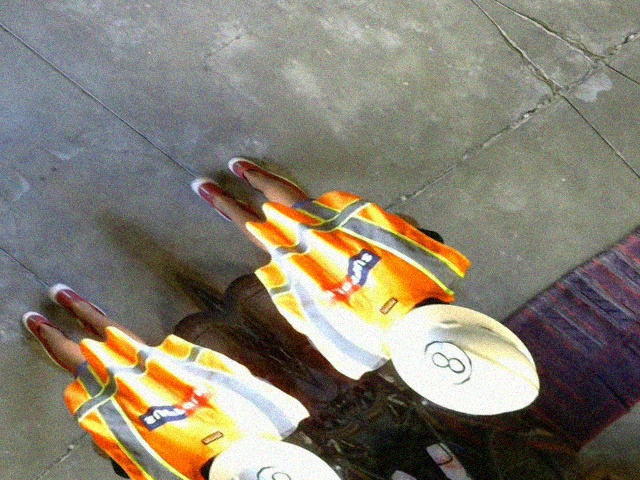eight: (407, 331, 488, 394)
